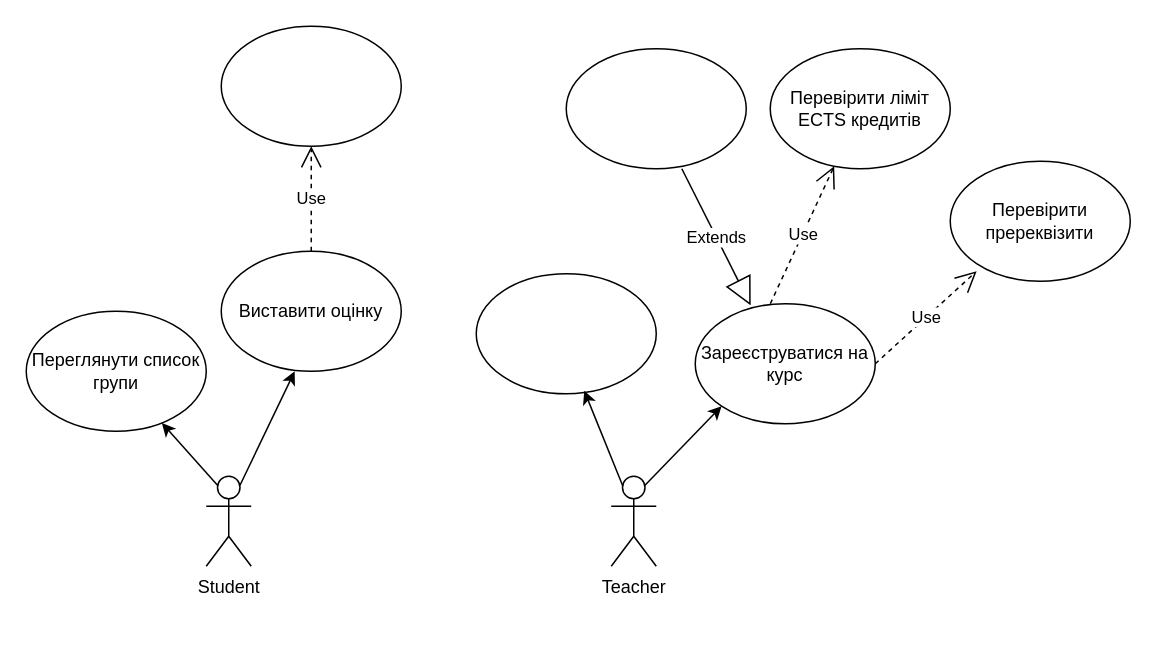
Image size: 1157x647. Some labels were removed from this diagram. The shapes that lost their labels are listed below. From the top down, each one's box as (x1, y1, x2, y2) in pixels, then its label:
(220, 25, 401, 146): Валідувати оцінку (0-100)
(565, 47, 746, 169): Повідомити про повторну реєстрацію
(475, 272, 656, 394): Переглянути оцінки
